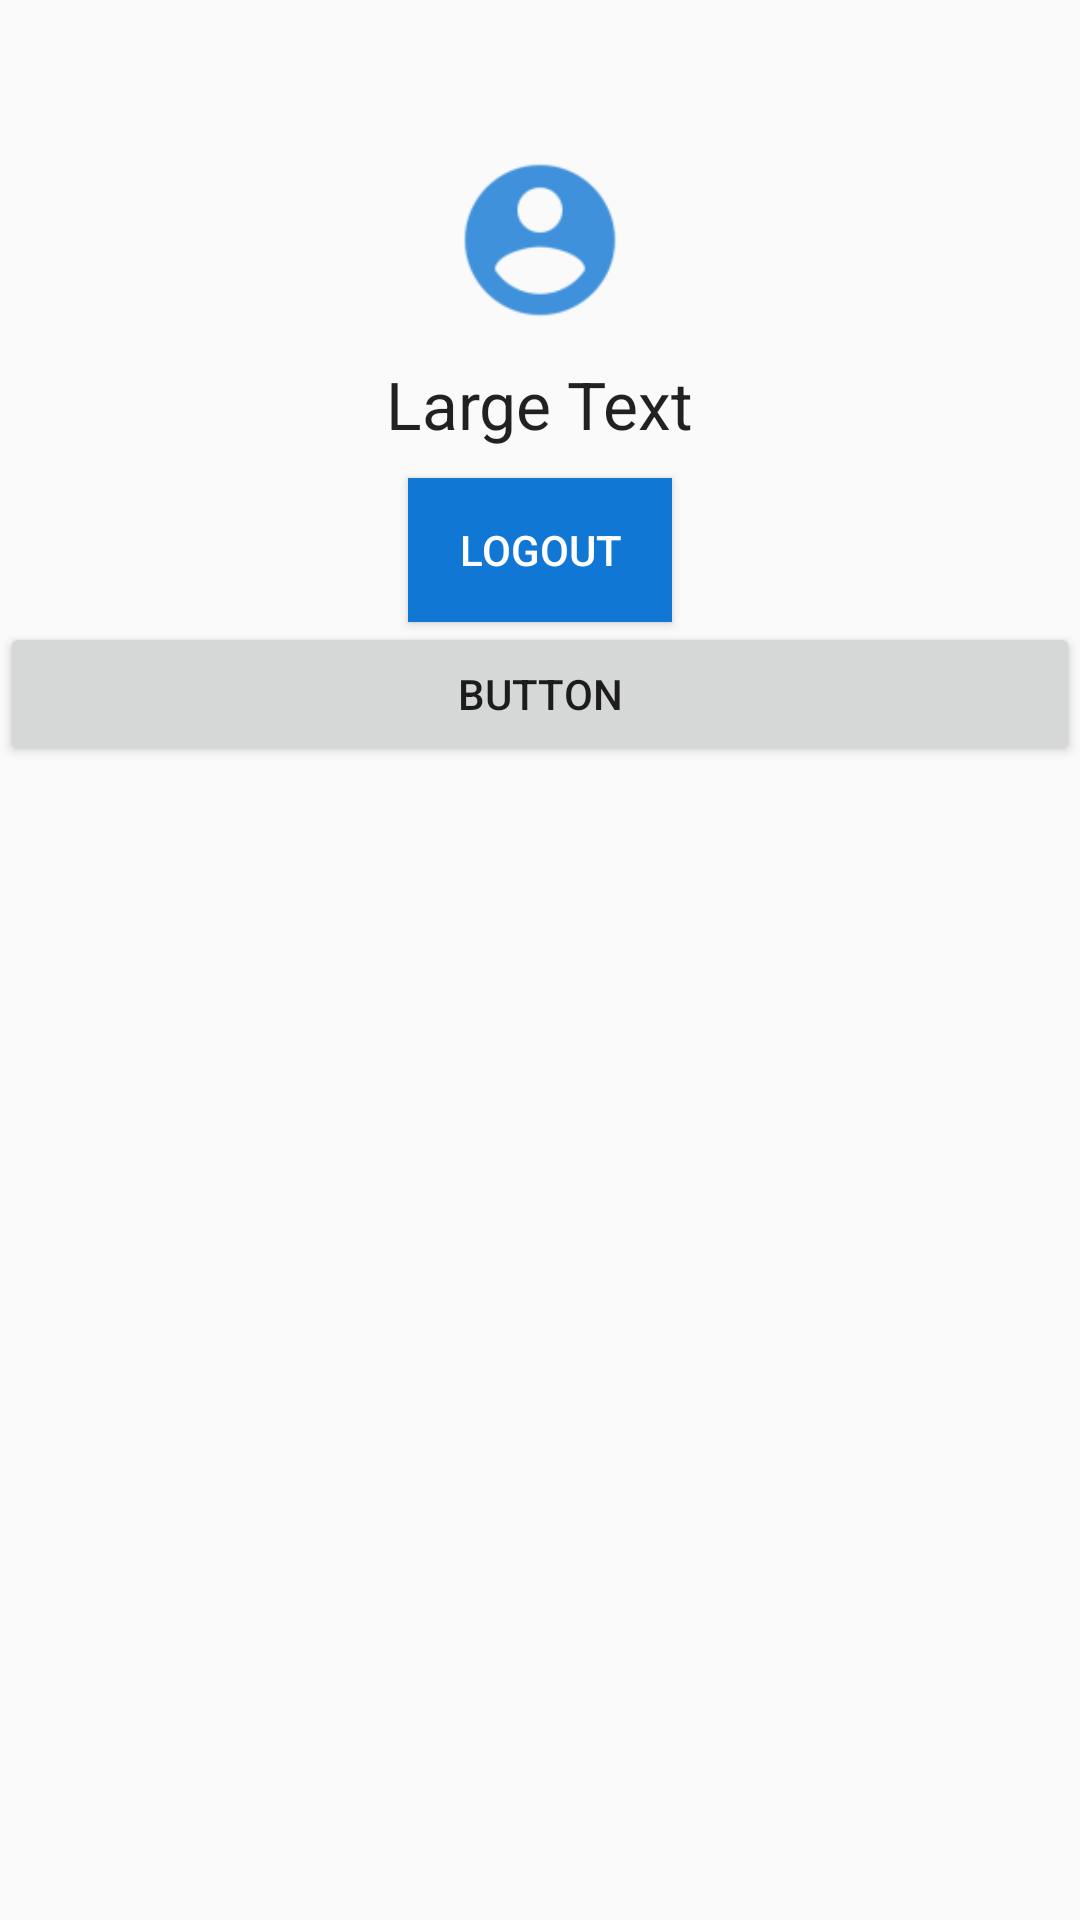

Named icons in this screenshot (1080×1920) and their bounding boxes, (x1, y1, x2, y2):
prof: (464, 164, 616, 316)
